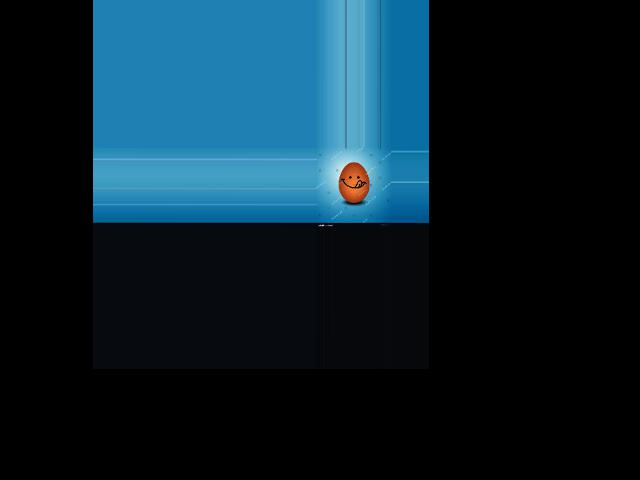egg: (338, 162, 370, 203)
